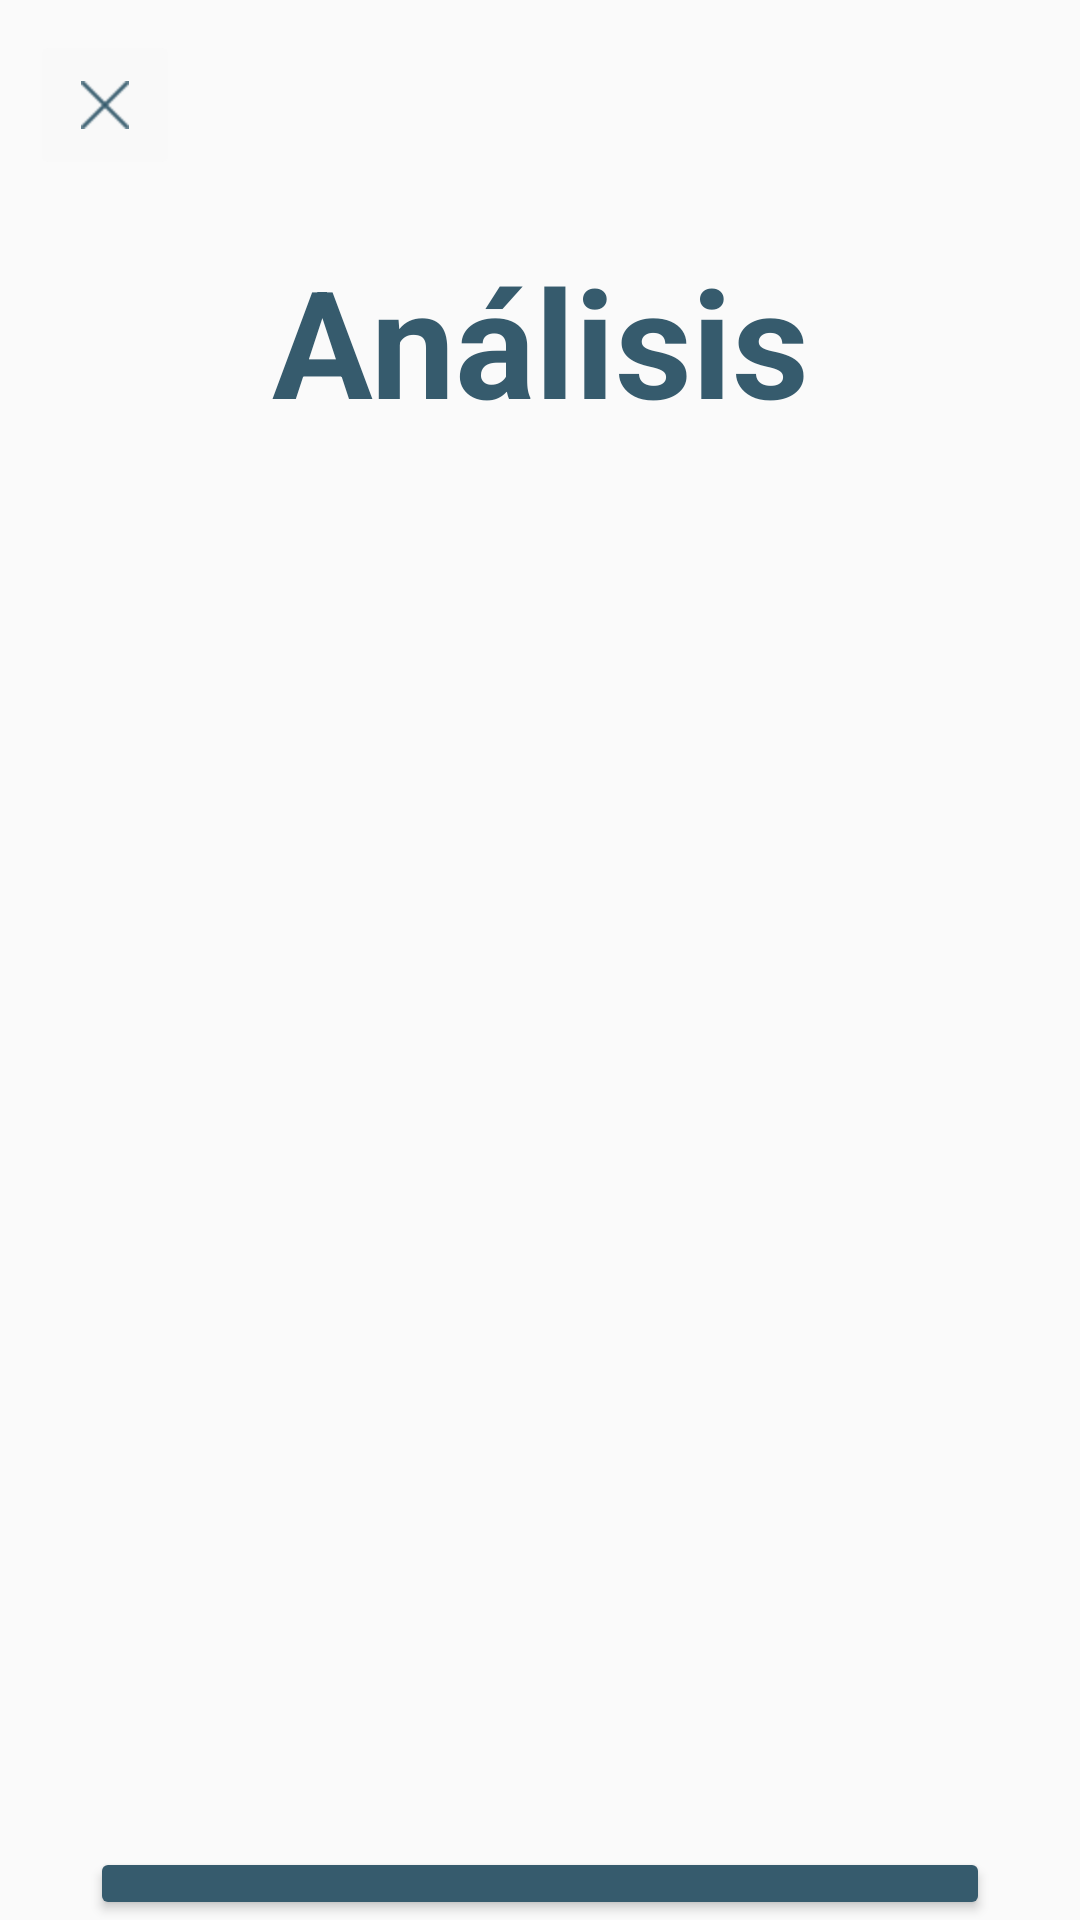

Screen size 1080px x 1920px. Icon name, then its box in pixels as (x1, y1, x2, y2):
cancel: (81, 81, 129, 129)
